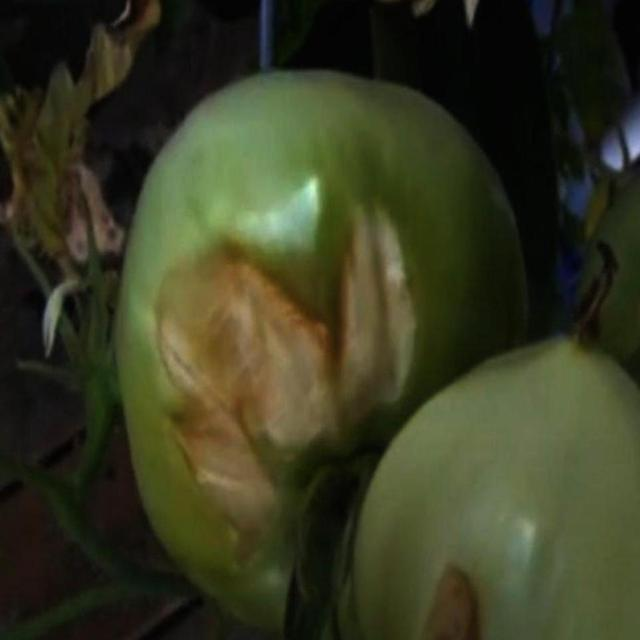Sunscald Fruit: (68, 60, 301, 397)
